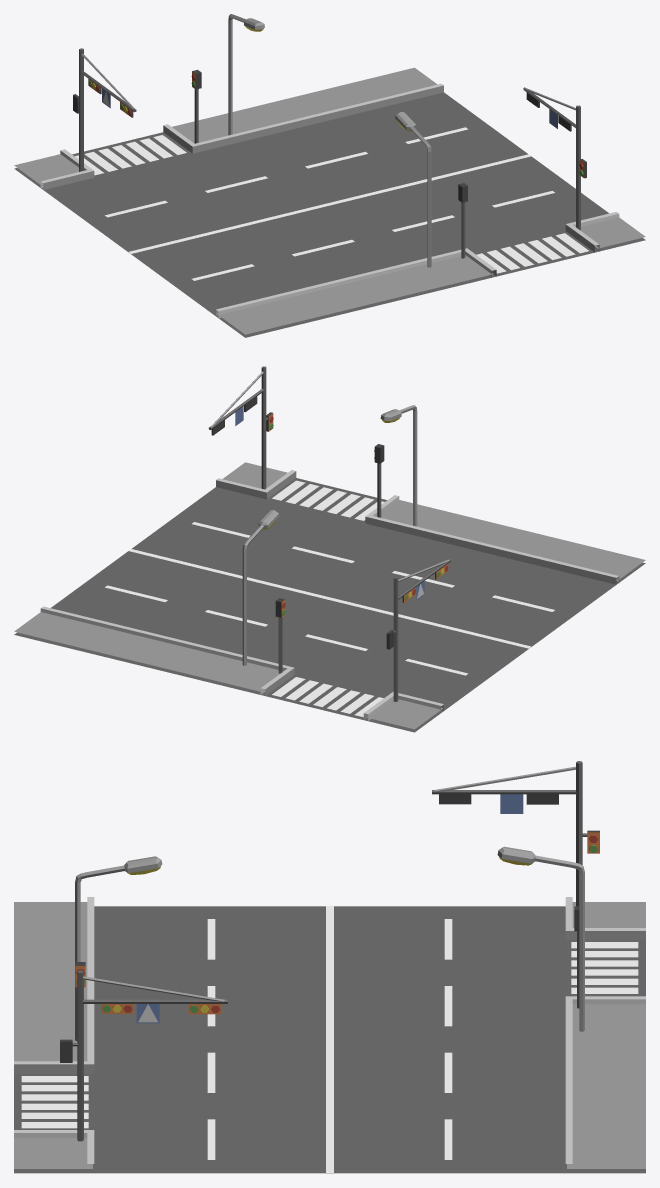
The model's file is road_tile_2x2_006.fbx.
The picture shows the model from 3 angles, top to bottom: view 1: azimuth 30°, elevation 25°; view 2: azimuth 150°, elevation 25°; view 3: azimuth 270°, elevation 25°; orthographic projection. The views are drawn at different scales.
Parts seen in each view (by area): view 1: road_tile_2x2_006; view 2: road_tile_2x2_006; view 3: road_tile_2x2_006.
Part boxes in pixels (left/top/right/bottom): road_tile_2x2_006: left=14, top=14, right=645, bottom=337; road_tile_2x2_006: left=14, top=366, right=645, bottom=732; road_tile_2x2_006: left=14, top=761, right=645, bottom=1173.
Bounding box in the file's own units: 1600 × 525 × 1600.
